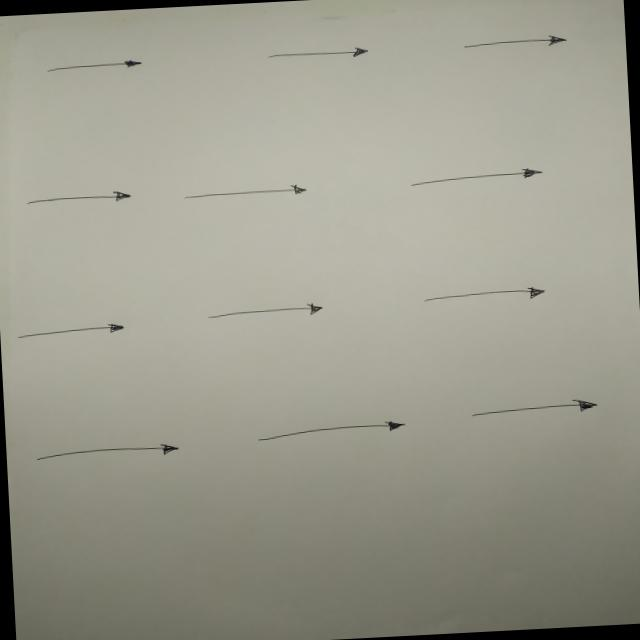arrow_line_right: (397, 154, 556, 200), (407, 276, 566, 318), (25, 436, 193, 474), (186, 292, 338, 332), (450, 392, 612, 428), (241, 416, 418, 448), (447, 25, 592, 64), (174, 171, 312, 210), (248, 36, 384, 70), (10, 312, 137, 343), (34, 46, 148, 78), (22, 186, 140, 214)
